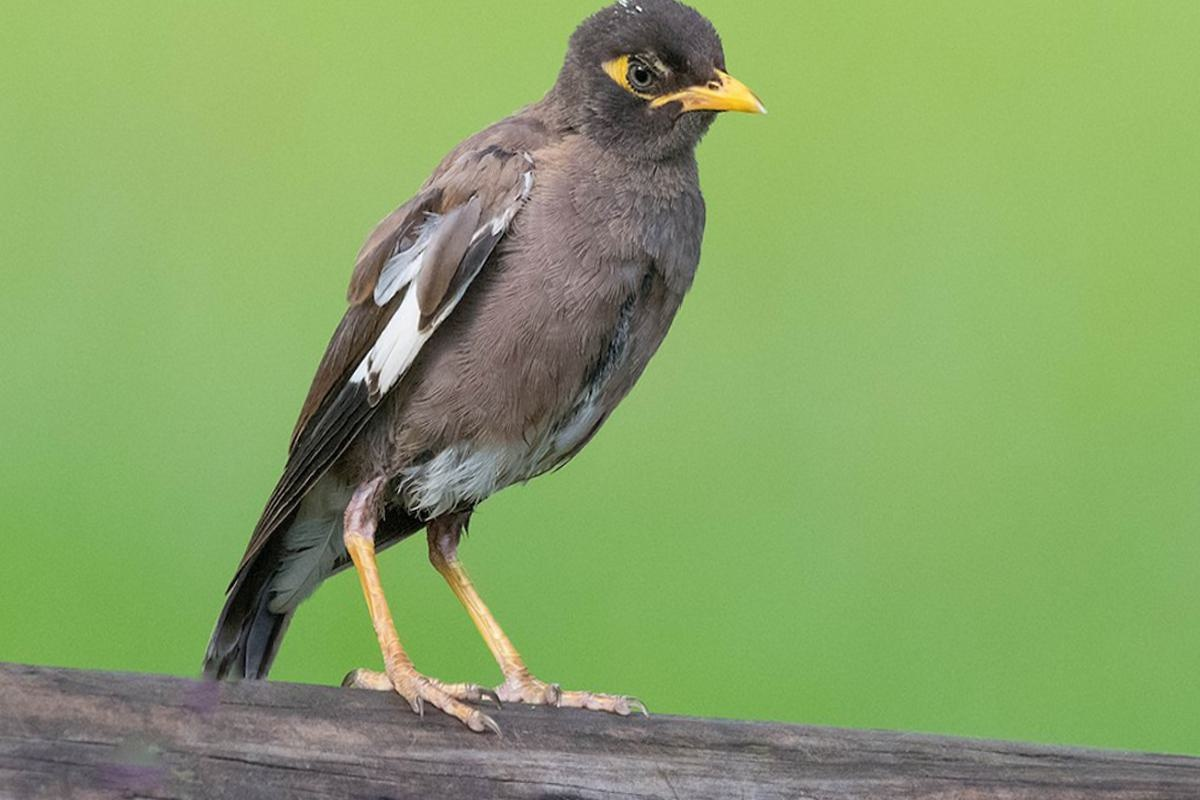myna: (205, 5, 777, 703)
